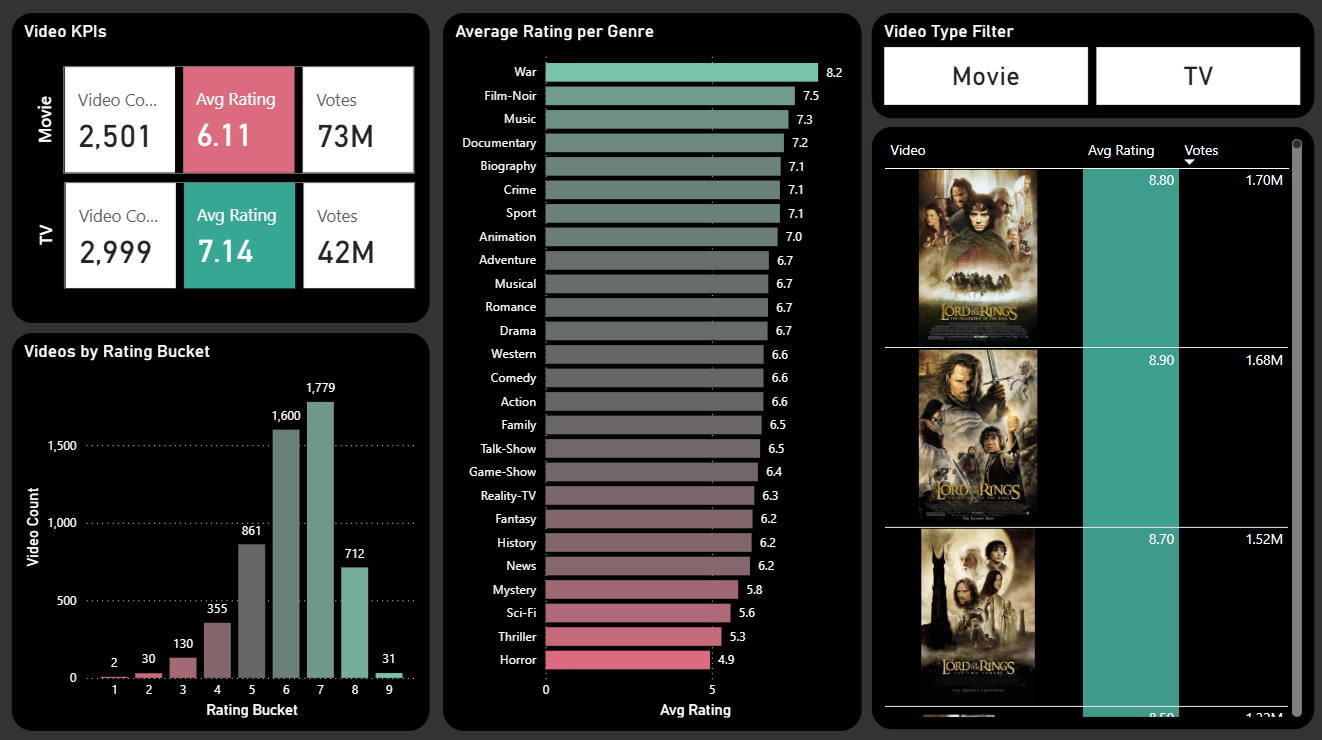

The dashboard page shown, as its layout file describes it:
{"tool":"powerbi","page":{"name":"Report","canvas":[1280,720],"ordinal":1},"visuals":[{"type":"columnChart","title":"Videos by Rating Bucket","fields":{"Category":["netflix_data.rating_bucket"],"Y":["netflix_data.Video Count"]},"box":[13.3,323.3,403,383.6],"z":0},{"type":"cardVisual","title":"Video KPIs","fields":{"Rows":["type_group.type_groupd"],"Data":["netflix_data.Video Count","netflix_data.Avg Rating","netflix_data.Votes"]},"box":[13.3,14.5,403,299.2],"z":1000},{"type":"clusteredBarChart","title":"Average Rating per Genre","fields":{"Category":["netflix_data.genre"],"Y":["netflix_data.Avg Rating"]},"box":[429.5,14.5,404.2,692.5],"z":2000},{"type":"advancedSlicerVisual","title":"Video Type Filter","fields":{"Values":["type_group.type_groupd"]},"box":[843.3,14.5,427.1,101.3],"z":3000},{"type":"tableEx","fields":{"Values":["netflix_data.image_url","netflix_data.Avg Rating","netflix_data.Votes"]},"box":[843.3,124.3,427.1,581.5],"z":4000}]}

Visuals, with their boxes in screenshot pixels (x1, y1, x2, y2), scaled from the page's 1280x720 canvas onto the 1322x740 screenshot:
"Videos by Rating Bucket" columnChart: 14, 332, 430, 727
"Video KPIs" cardVisual: 14, 15, 430, 322
"Average Rating per Genre" clusteredBarChart: 444, 15, 861, 727
"Video Type Filter" advancedSlicerVisual: 871, 15, 1312, 119
tableEx - netflix_data.image_url x netflix_data.Avg Rating: 871, 128, 1312, 725
